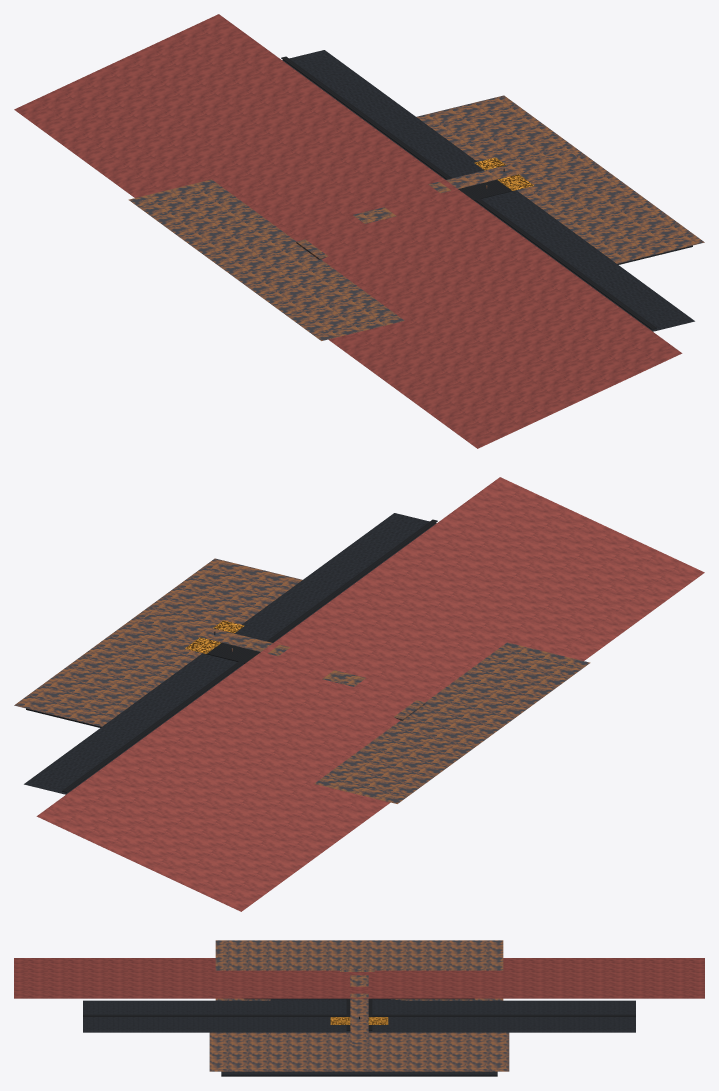
Rendered from Hesperus_Market2_ModuleLibrary.glb.
3 views of the same model, one above another, from view 1: azimuth 30°, elevation 25°; view 2: azimuth 150°, elevation 25°; view 3: azimuth 270°, elevation 25° (orthographic). The views are drawn at different scales.
Visible parts, largest first — view 1: LIB_Stall_Canopy, LIB_Booth_Trim, LIB_Stall_Top, LIB_Balcony_Floor, LIB_Balcony_Rail, LIB_Mast_Arm; view 2: LIB_Stall_Canopy, LIB_Booth_Trim, LIB_Stall_Top, LIB_Balcony_Floor, LIB_Balcony_Rail, LIB_Mast_Arm; view 3: LIB_Stall_Canopy, LIB_Balcony_Floor, LIB_Booth_Trim, LIB_Stall_Top, LIB_Booth_Body, LIB_Balcony_Rail, LIB_Mast_Arm, LIB_Sign_Panel, LIB_Mast_Lamp.
Boxes of the visible parts, x1,y1,x2,y2 form: LIB_Stall_Canopy: (14, 14, 682, 448); LIB_Booth_Trim: (416, 95, 704, 263); LIB_Stall_Top: (128, 179, 404, 340); LIB_Balcony_Floor: (282, 50, 694, 331); LIB_Balcony_Rail: (281, 56, 656, 329); LIB_Mast_Arm: (428, 150, 579, 193); LIB_Stall_Canopy: (36, 477, 704, 911); LIB_Booth_Trim: (14, 558, 302, 726); LIB_Stall_Top: (314, 642, 590, 803); LIB_Balcony_Floor: (24, 513, 436, 794); LIB_Balcony_Rail: (62, 519, 437, 792); LIB_Mast_Arm: (139, 613, 290, 656); LIB_Stall_Canopy: (14, 958, 704, 998); LIB_Balcony_Floor: (83, 1000, 635, 1032); LIB_Booth_Trim: (209, 1032, 509, 1071); LIB_Stall_Top: (215, 940, 503, 1000); LIB_Booth_Body: (221, 1071, 497, 1076); LIB_Balcony_Rail: (83, 1014, 635, 1016); LIB_Mast_Arm: (350, 993, 368, 1044); LIB_Sign_Panel: (244, 998, 474, 999); LIB_Mast_Lamp: (330, 1017, 388, 1024).
Bounding box in the file's own units: 65.25 × 7.8 × 138.
10 materials, 9 textured.
